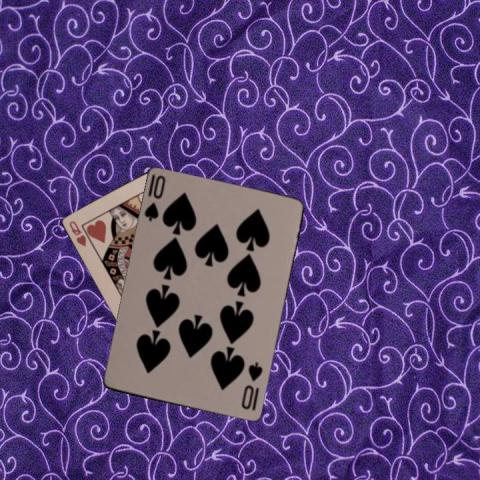10s: (238, 360, 265, 411), (142, 173, 168, 223)
Qh: (67, 218, 88, 248)
